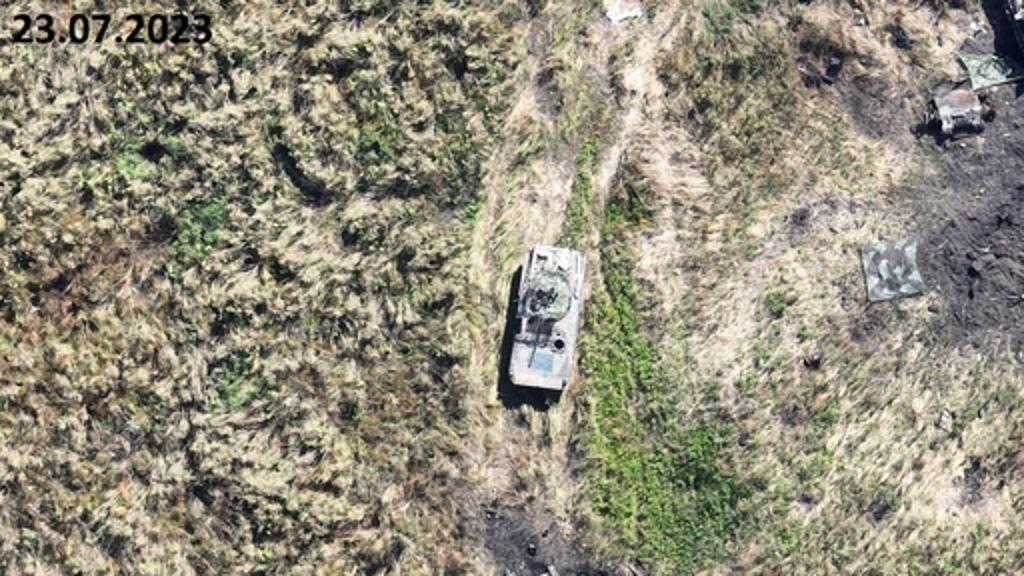APC-IFV: (492, 232, 592, 398)
